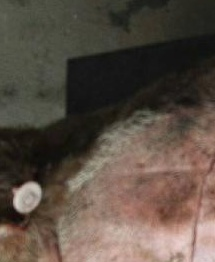text: (4, 169, 51, 226)
